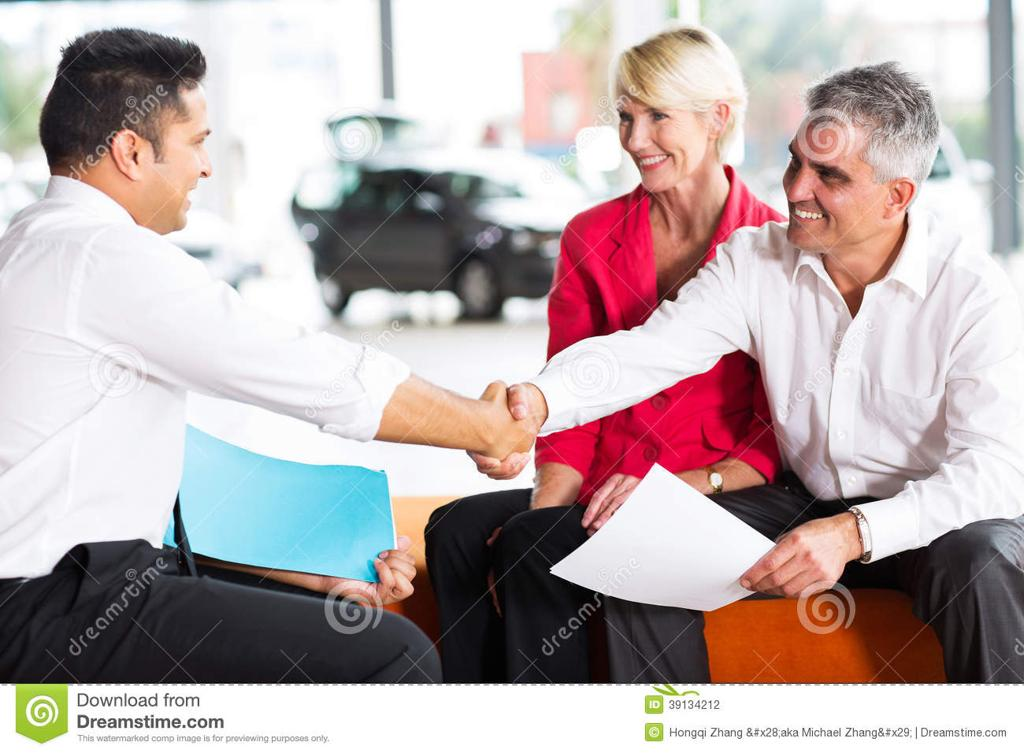face: (782, 108, 872, 248), (144, 40, 208, 232), (618, 78, 702, 190)
